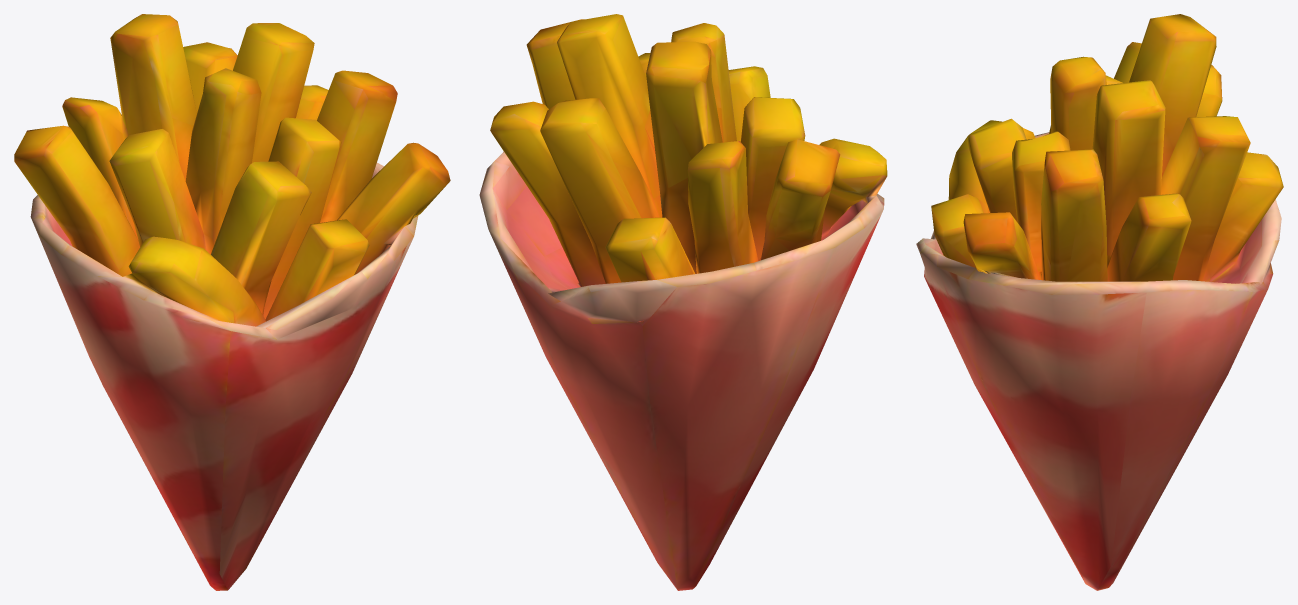
3 renders of one model, left to right at view 1: azimuth 30°, elevation 25°; view 2: azimuth 150°, elevation 25°; view 3: azimuth 270°, elevation 25°, orthographic. The views are drawn at different scales.
Visible parts, largest first — view 1: fries; view 2: fries; view 3: fries.
Part boxes in pixels (x1,y1,x2,y2): fries: (14, 14, 450, 590); fries: (479, 14, 887, 590); fries: (916, 14, 1283, 590).
Size of the model in its own units: 0.1043 by 0.1602 by 0.0967.
Materials: 1 (1 with a texture image).
